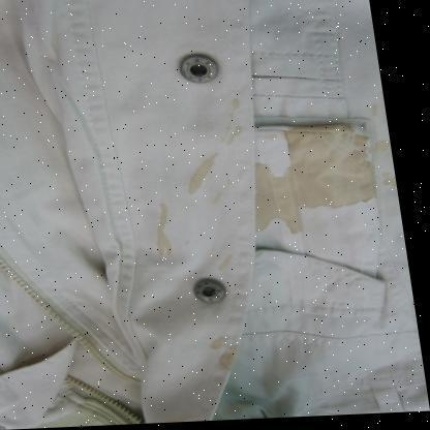coffee: (299, 132, 359, 205), (258, 180, 295, 227), (157, 206, 171, 250), (222, 348, 236, 366), (192, 171, 201, 189)
